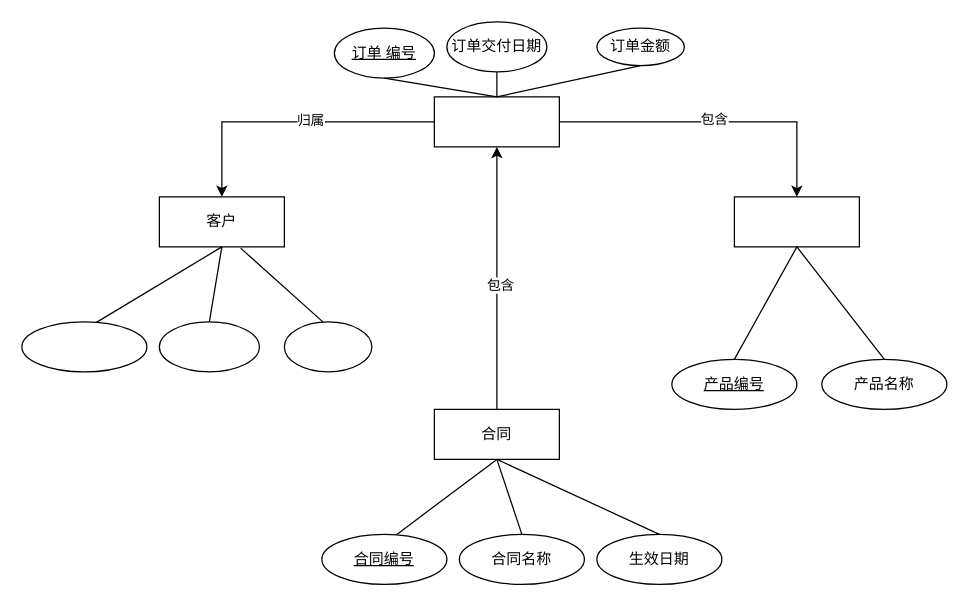
Image size: 969x606. Some labels were removed from this diagram. The box of each missing label's shape, as (x1, y1, x2, y2) in pixels:
产品: (733, 196, 859, 247)
客户名称: (158, 321, 259, 372)
客户编号: (21, 321, 147, 372)
联系地址: (283, 321, 372, 372)
订单: (433, 96, 559, 147)
